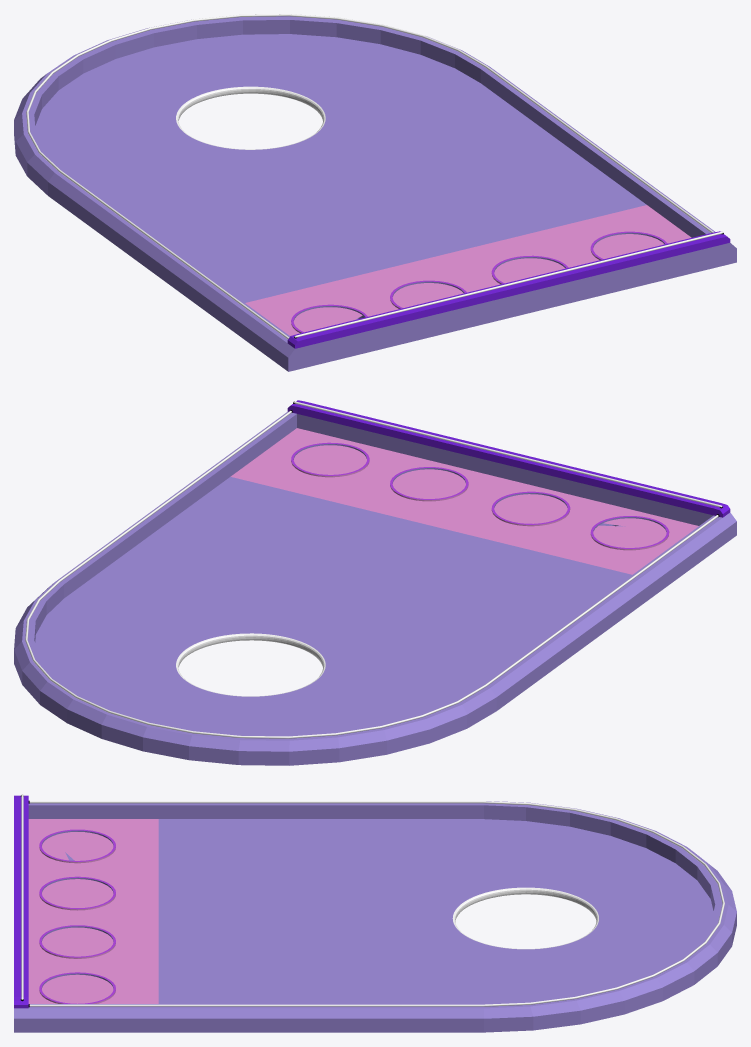
File: Platform 2 - Hole 4.fbx
3 views of the same model, one above another, from view 1: azimuth 30°, elevation 25°; view 2: azimuth 150°, elevation 25°; view 3: azimuth 270°, elevation 25° (orthographic). The views are drawn at different scales.
Parts seen in each view (by area): view 1: 4HolePlatform-1; view 2: 4HolePlatform-1; view 3: 4HolePlatform-1.
Part boxes in pixels (bbox=[...]): 4HolePlatform-1: bbox=[14, 14, 736, 371]; 4HolePlatform-1: bbox=[14, 400, 736, 765]; 4HolePlatform-1: bbox=[14, 794, 736, 1032].
Size of the model in its own units: 2504 by 162 by 3576.
